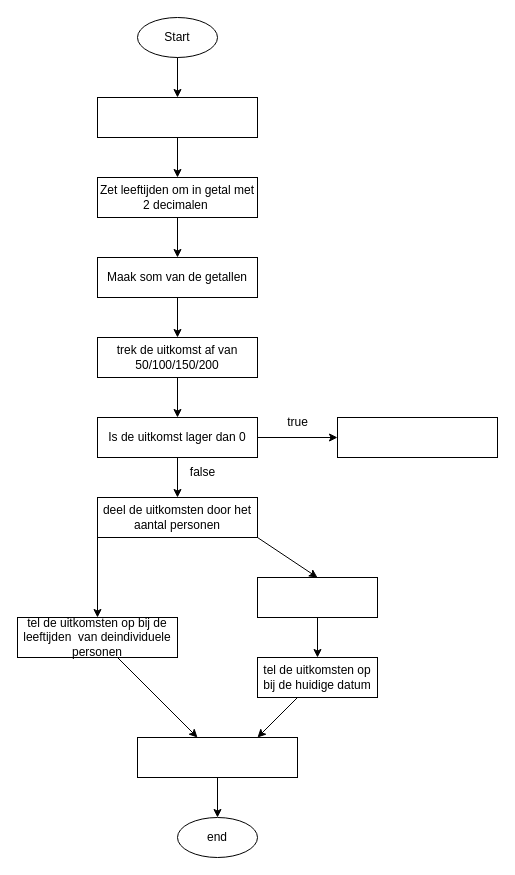
Some shapes in this 515 by 875 pixel diagram are drawn without their labels. Each missing label, with the box of its shape:
Bepaal leeftijden van personen: (96, 96, 258, 138)
doe er niks mee: (336, 416, 498, 458)
Output de uitkomsten als de inviduele leeftijd niet hoger is dan 105: (136, 736, 298, 778)
Zet de uitkomsten weer om in dagen: (256, 576, 378, 618)
